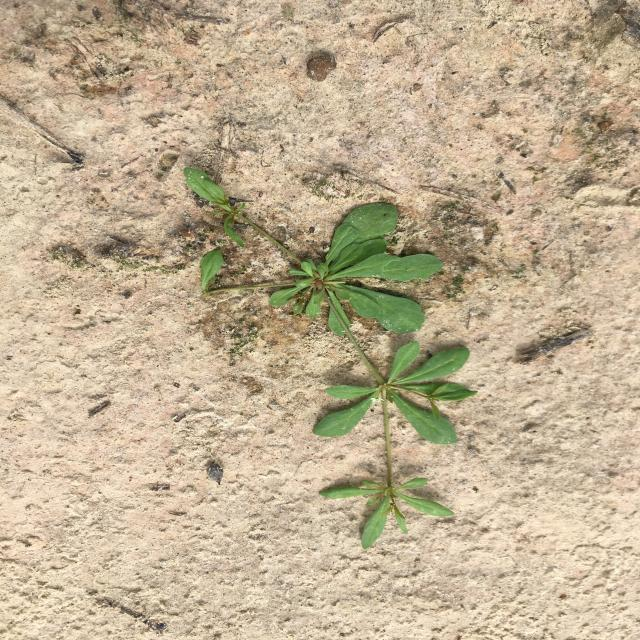Carpetweed: (183, 167, 478, 550)
